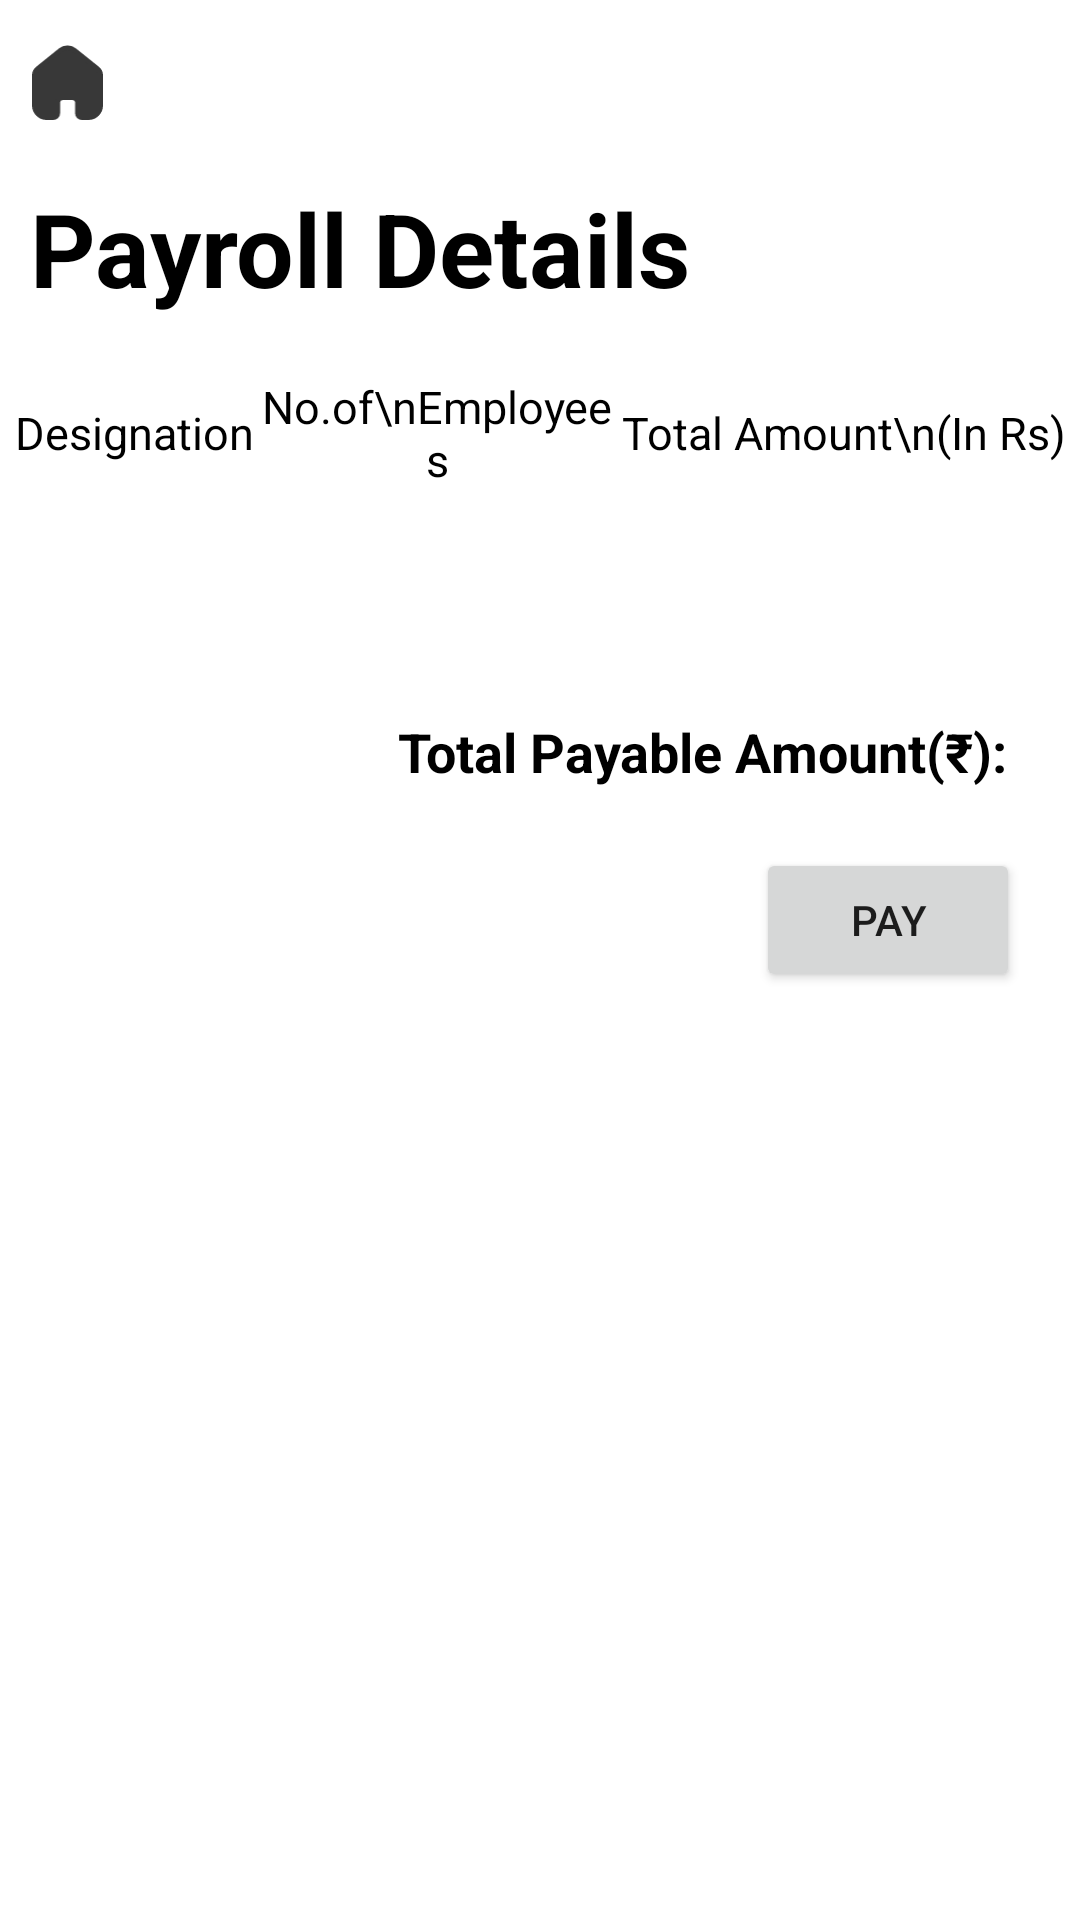

Screen size 1080px×1920px. Icon name, then its box in pixels as [x1,y1,x2,y2]:
home: [32,45,103,120]
